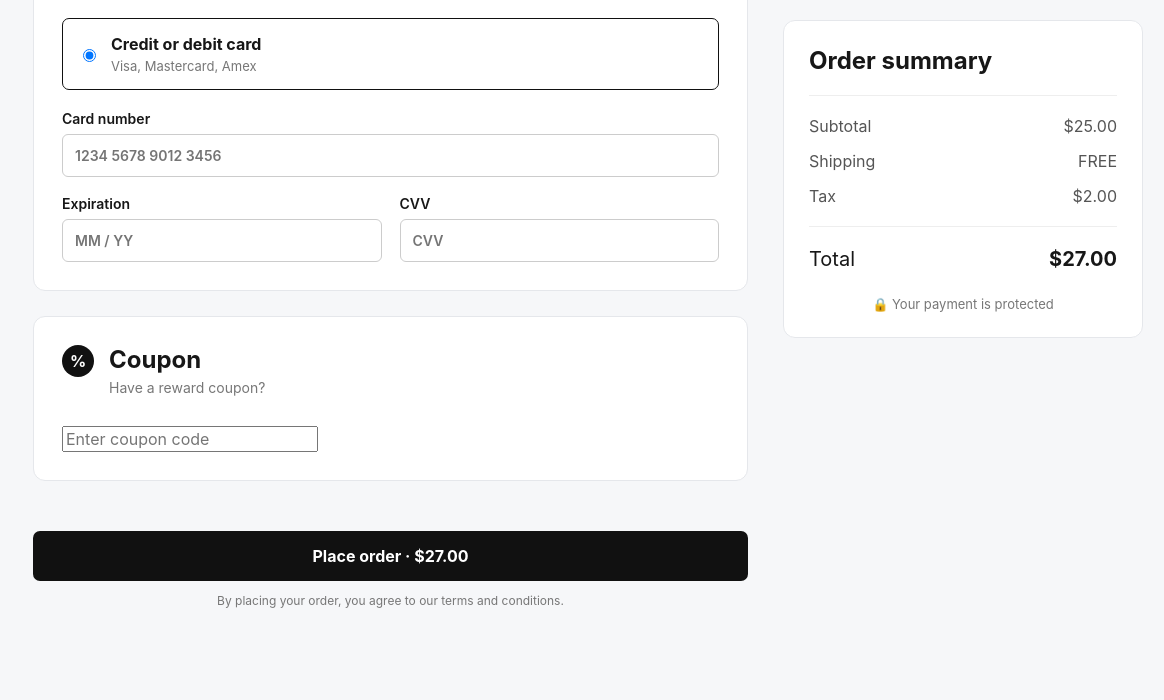
Checkout › prevents placing an order for an empty cart
(page scrolled)
What coordinates should you click on to do the following:
click the button "Place order · $27.00"
I would click on:
 (390, 556)
Its box is [33, 531, 748, 581].
(page scrolled)
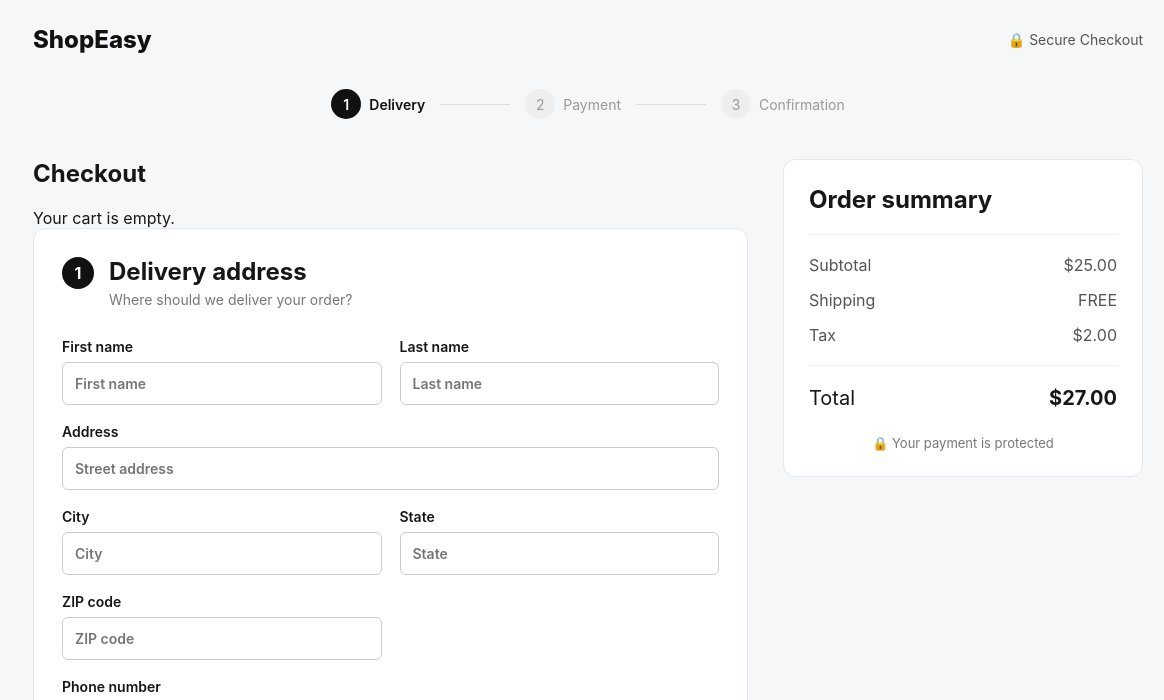
Now the text "Your cart is empty." is shown, box [33, 208, 175, 228]
